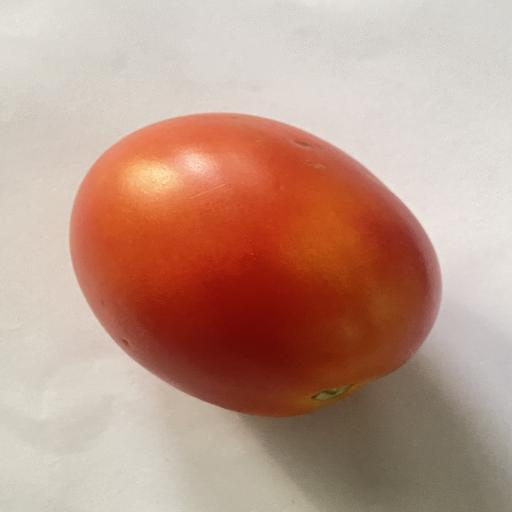ripe: (70, 113, 441, 417)
